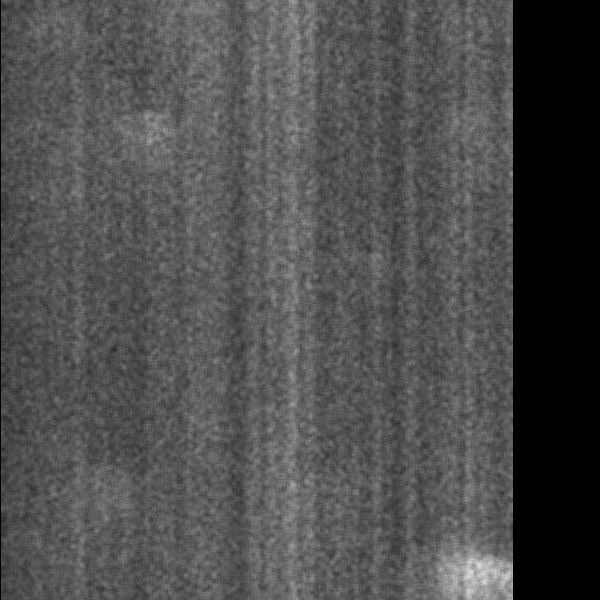spark: (104, 102, 170, 169), (462, 548, 513, 598)
